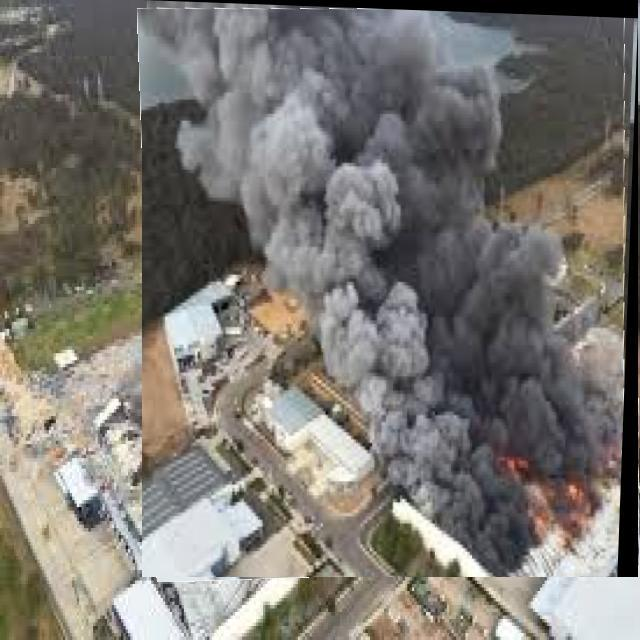fire: (502, 454, 592, 550)
smoke: (146, 8, 565, 282), (315, 285, 498, 554), (497, 285, 619, 450)
